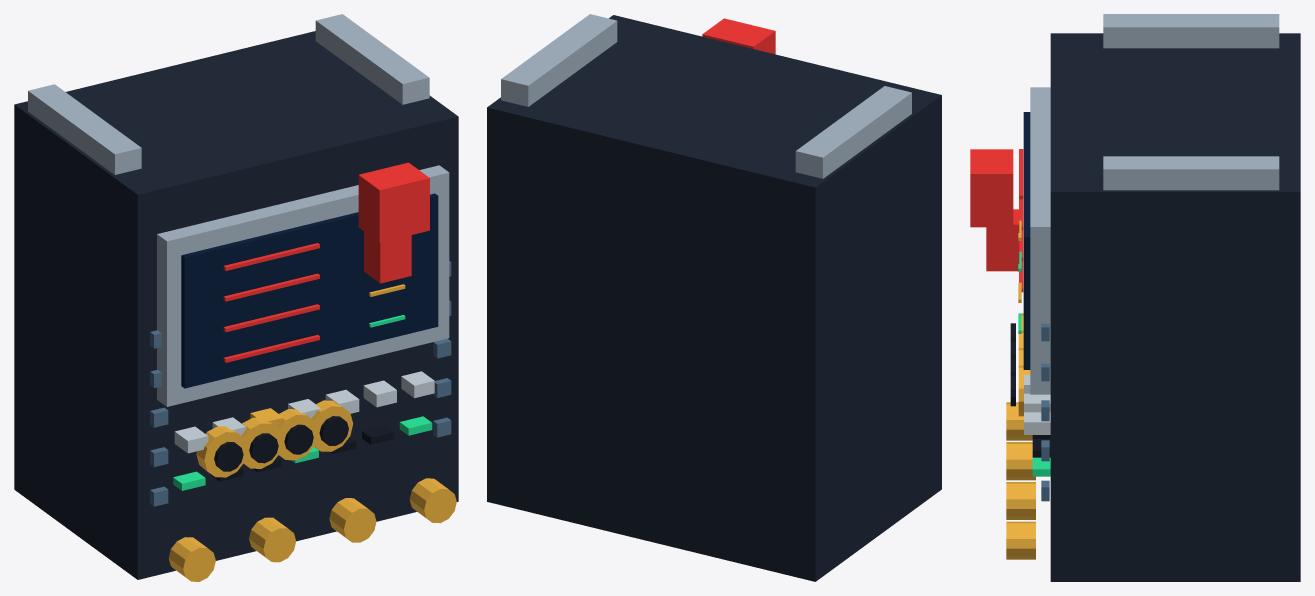
Rendered from 66_L85_LiDARBlindSpotFaultEmulator.fbx.
3 views of the same model, side by side, from view 1: azimuth 30°, elevation 25°; view 2: azimuth 150°, elevation 25°; view 3: azimuth 270°, elevation 25° (orthographic). The views are drawn at different scales.
Visible parts, largest first — view 1: L85_LiDARBlindSpotFaultEmulator, L85_LiDARBlindSpotFaultEmulator_Part_0009, L85_LiDARBlindSpotFaultEmulator_Part_0010, L85_LiDARBlindSpotFaultEmulator_Part_0016, L85_LiDARBlindSpotFaultEmulator_Part_0012, L85_LiDARBlindSpotFaultEmulator_Part_0014, L85_LiDARBlindSpotFaultEmulator_Part_0015, L85_LiDARBlindSpotFaultEmulator_Part_0013, L85_LiDARBlindSpotFaultEmulator_Part_0011, L85_LiDARBlindSpotFaultEmulator_Part_0017; view 2: L85_LiDARBlindSpotFaultEmulator, L85_LiDARBlindSpotFaultEmulator_Part_0009; view 3: L85_LiDARBlindSpotFaultEmulator, L85_LiDARBlindSpotFaultEmulator_Part_0009.
Boxes of the visible parts, box(x1,y1,x2,y2) form: L85_LiDARBlindSpotFaultEmulator: box(14, 14, 458, 581); L85_LiDARBlindSpotFaultEmulator_Part_0009: box(358, 162, 429, 242); L85_LiDARBlindSpotFaultEmulator_Part_0010: box(196, 426, 247, 477); L85_LiDARBlindSpotFaultEmulator_Part_0016: box(311, 400, 353, 451); L85_LiDARBlindSpotFaultEmulator_Part_0012: box(241, 417, 282, 468); L85_LiDARBlindSpotFaultEmulator_Part_0014: box(276, 409, 317, 460); L85_LiDARBlindSpotFaultEmulator_Part_0015: box(284, 424, 313, 454); L85_LiDARBlindSpotFaultEmulator_Part_0013: box(249, 433, 278, 463); L85_LiDARBlindSpotFaultEmulator_Part_0011: box(214, 441, 243, 471); L85_LiDARBlindSpotFaultEmulator_Part_0017: box(319, 416, 348, 445); L85_LiDARBlindSpotFaultEmulator: box(487, 14, 941, 581); L85_LiDARBlindSpotFaultEmulator_Part_0009: box(702, 18, 775, 54); L85_LiDARBlindSpotFaultEmulator: box(986, 14, 1300, 581); L85_LiDARBlindSpotFaultEmulator_Part_0009: box(970, 149, 1013, 227).
Size of the model in its own units: 95.88 by 116 by 84.46.
